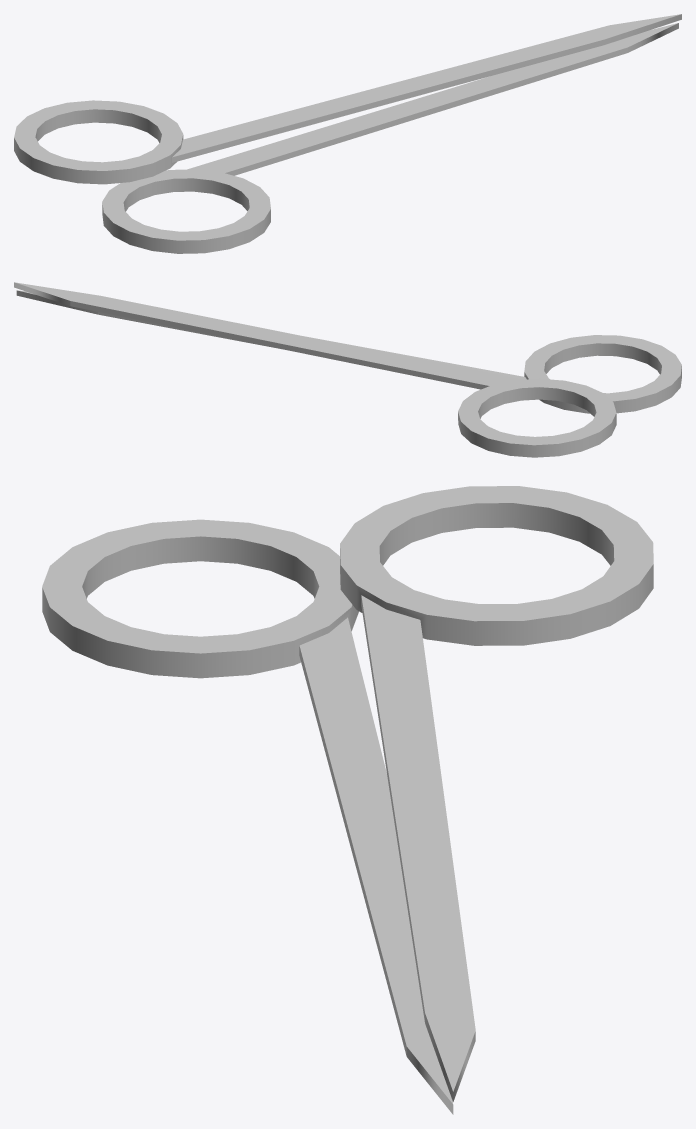
The model's file is surg scissors.fbx.
3 views of the same model, one above another, from view 1: azimuth 30°, elevation 25°; view 2: azimuth 150°, elevation 25°; view 3: azimuth 270°, elevation 25° (orthographic). The views are drawn at different scales.
Visible parts, largest first — view 1: pasted__pCylinder117, pasted__pCylinder116; view 2: pasted__pCylinder117, pasted__pCylinder116; view 3: pasted__pCylinder117, pasted__pCylinder116.
Boxes of the visible parts, x1,y1,x2,y2 form: pasted__pCylinder117: [14, 14, 681, 184]; pasted__pCylinder116: [102, 23, 678, 253]; pasted__pCylinder117: [14, 282, 616, 457]; pasted__pCylinder116: [16, 290, 681, 413]; pasted__pCylinder117: [340, 486, 653, 1101]; pasted__pCylinder116: [42, 519, 453, 1114].
Size of the model in its own units: 0.5289 by 0.0214 by 0.2326.
Materials: 1 (1 with a texture image).
